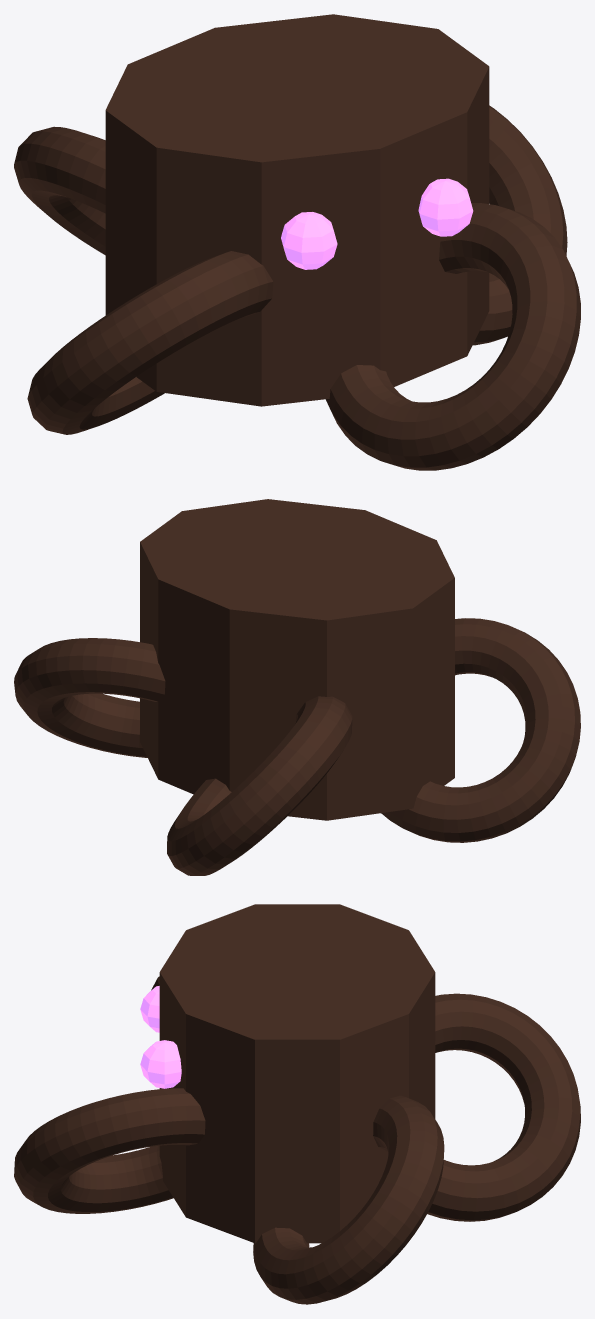
The model's file is mzizi_raiz.glb.
The picture shows the model from 3 angles, top to bottom: view 1: azimuth 30°, elevation 25°; view 2: azimuth 150°, elevation 25°; view 3: azimuth 270°, elevation 25°; orthographic projection. The views are drawn at different scales.
Visible parts, largest first — view 1: Mzizi_Tocon, Torus.003, Torus.002, Torus.001, Torus, Mzizi_Ojo_I, Mzizi_Ojo_D; view 2: Mzizi_Tocon, Torus.002, Torus.001, Torus; view 3: Mzizi_Tocon, Torus.001, Torus.003, Torus, Mzizi_Ojo_D, Mzizi_Ojo_I.
Part boxes in pixels (left/top/right/bottom): Mzizi_Tocon: left=105, top=14, right=489, bottom=406; Torus.003: left=326, top=203, right=580, bottom=470; Torus.002: left=27, top=251, right=273, bottom=434; Torus.001: left=14, top=126, right=105, bottom=255; Torus: left=473, top=105, right=567, bottom=345; Mzizi_Ojo_I: left=281, top=212, right=337, bottom=269; Mzizi_Ojo_D: left=418, top=178, right=473, bottom=236; Mzizi_Tocon: left=140, top=499, right=454, bottom=820; Torus.002: left=381, top=618, right=580, bottom=842; Torus.001: left=167, top=696, right=352, bottom=875; Torus: left=14, top=638, right=165, bottom=757; Mzizi_Tocon: left=159, top=904, right=435, bottom=1243; Torus.001: left=427, top=993, right=580, bottom=1221; Torus.003: left=14, top=1088, right=205, bottom=1213; Torus: left=253, top=1095, right=444, bottom=1304; Mzizi_Ojo_D: left=140, top=1040, right=181, bottom=1088; Mzizi_Ojo_I: left=140, top=986, right=159, bottom=1032.
Bounding box in the file's own units: 2.78 × 1.3 × 2.78.
